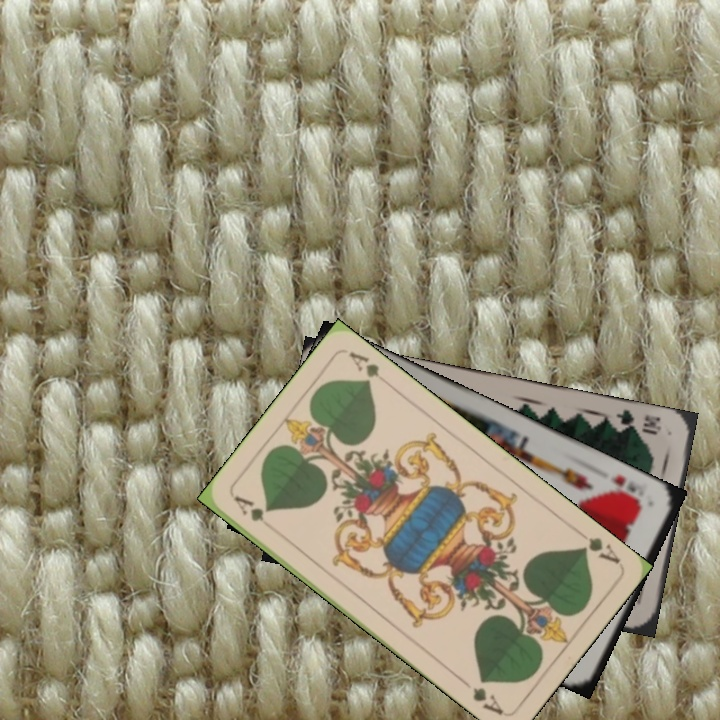G10: (611, 406, 664, 438)
GA: (230, 492, 277, 535), (575, 533, 624, 567)
HK: (605, 470, 646, 509)
